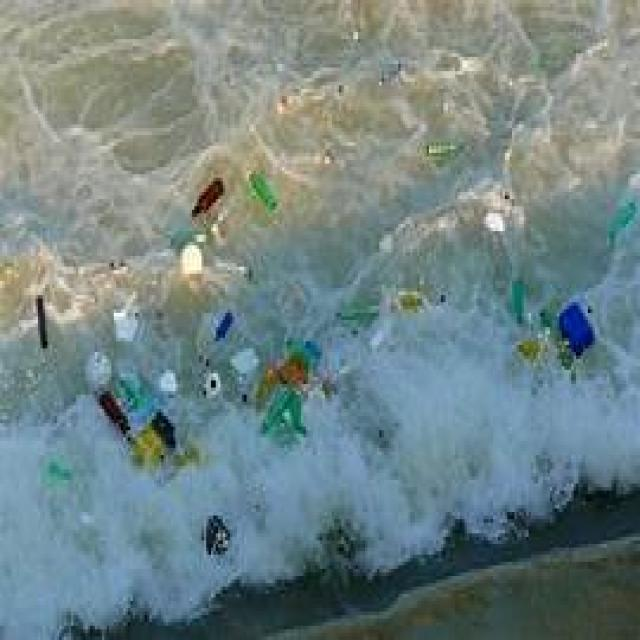litter: (275, 322, 334, 438), (261, 390, 320, 450), (101, 283, 151, 353), (180, 169, 235, 225), (246, 162, 292, 225), (192, 301, 243, 357), (476, 202, 533, 250), (326, 292, 381, 340), (110, 359, 154, 418), (34, 455, 87, 500), (599, 195, 640, 252), (216, 254, 264, 301), (230, 340, 268, 398), (417, 131, 471, 168), (163, 212, 212, 249), (507, 274, 533, 336)
